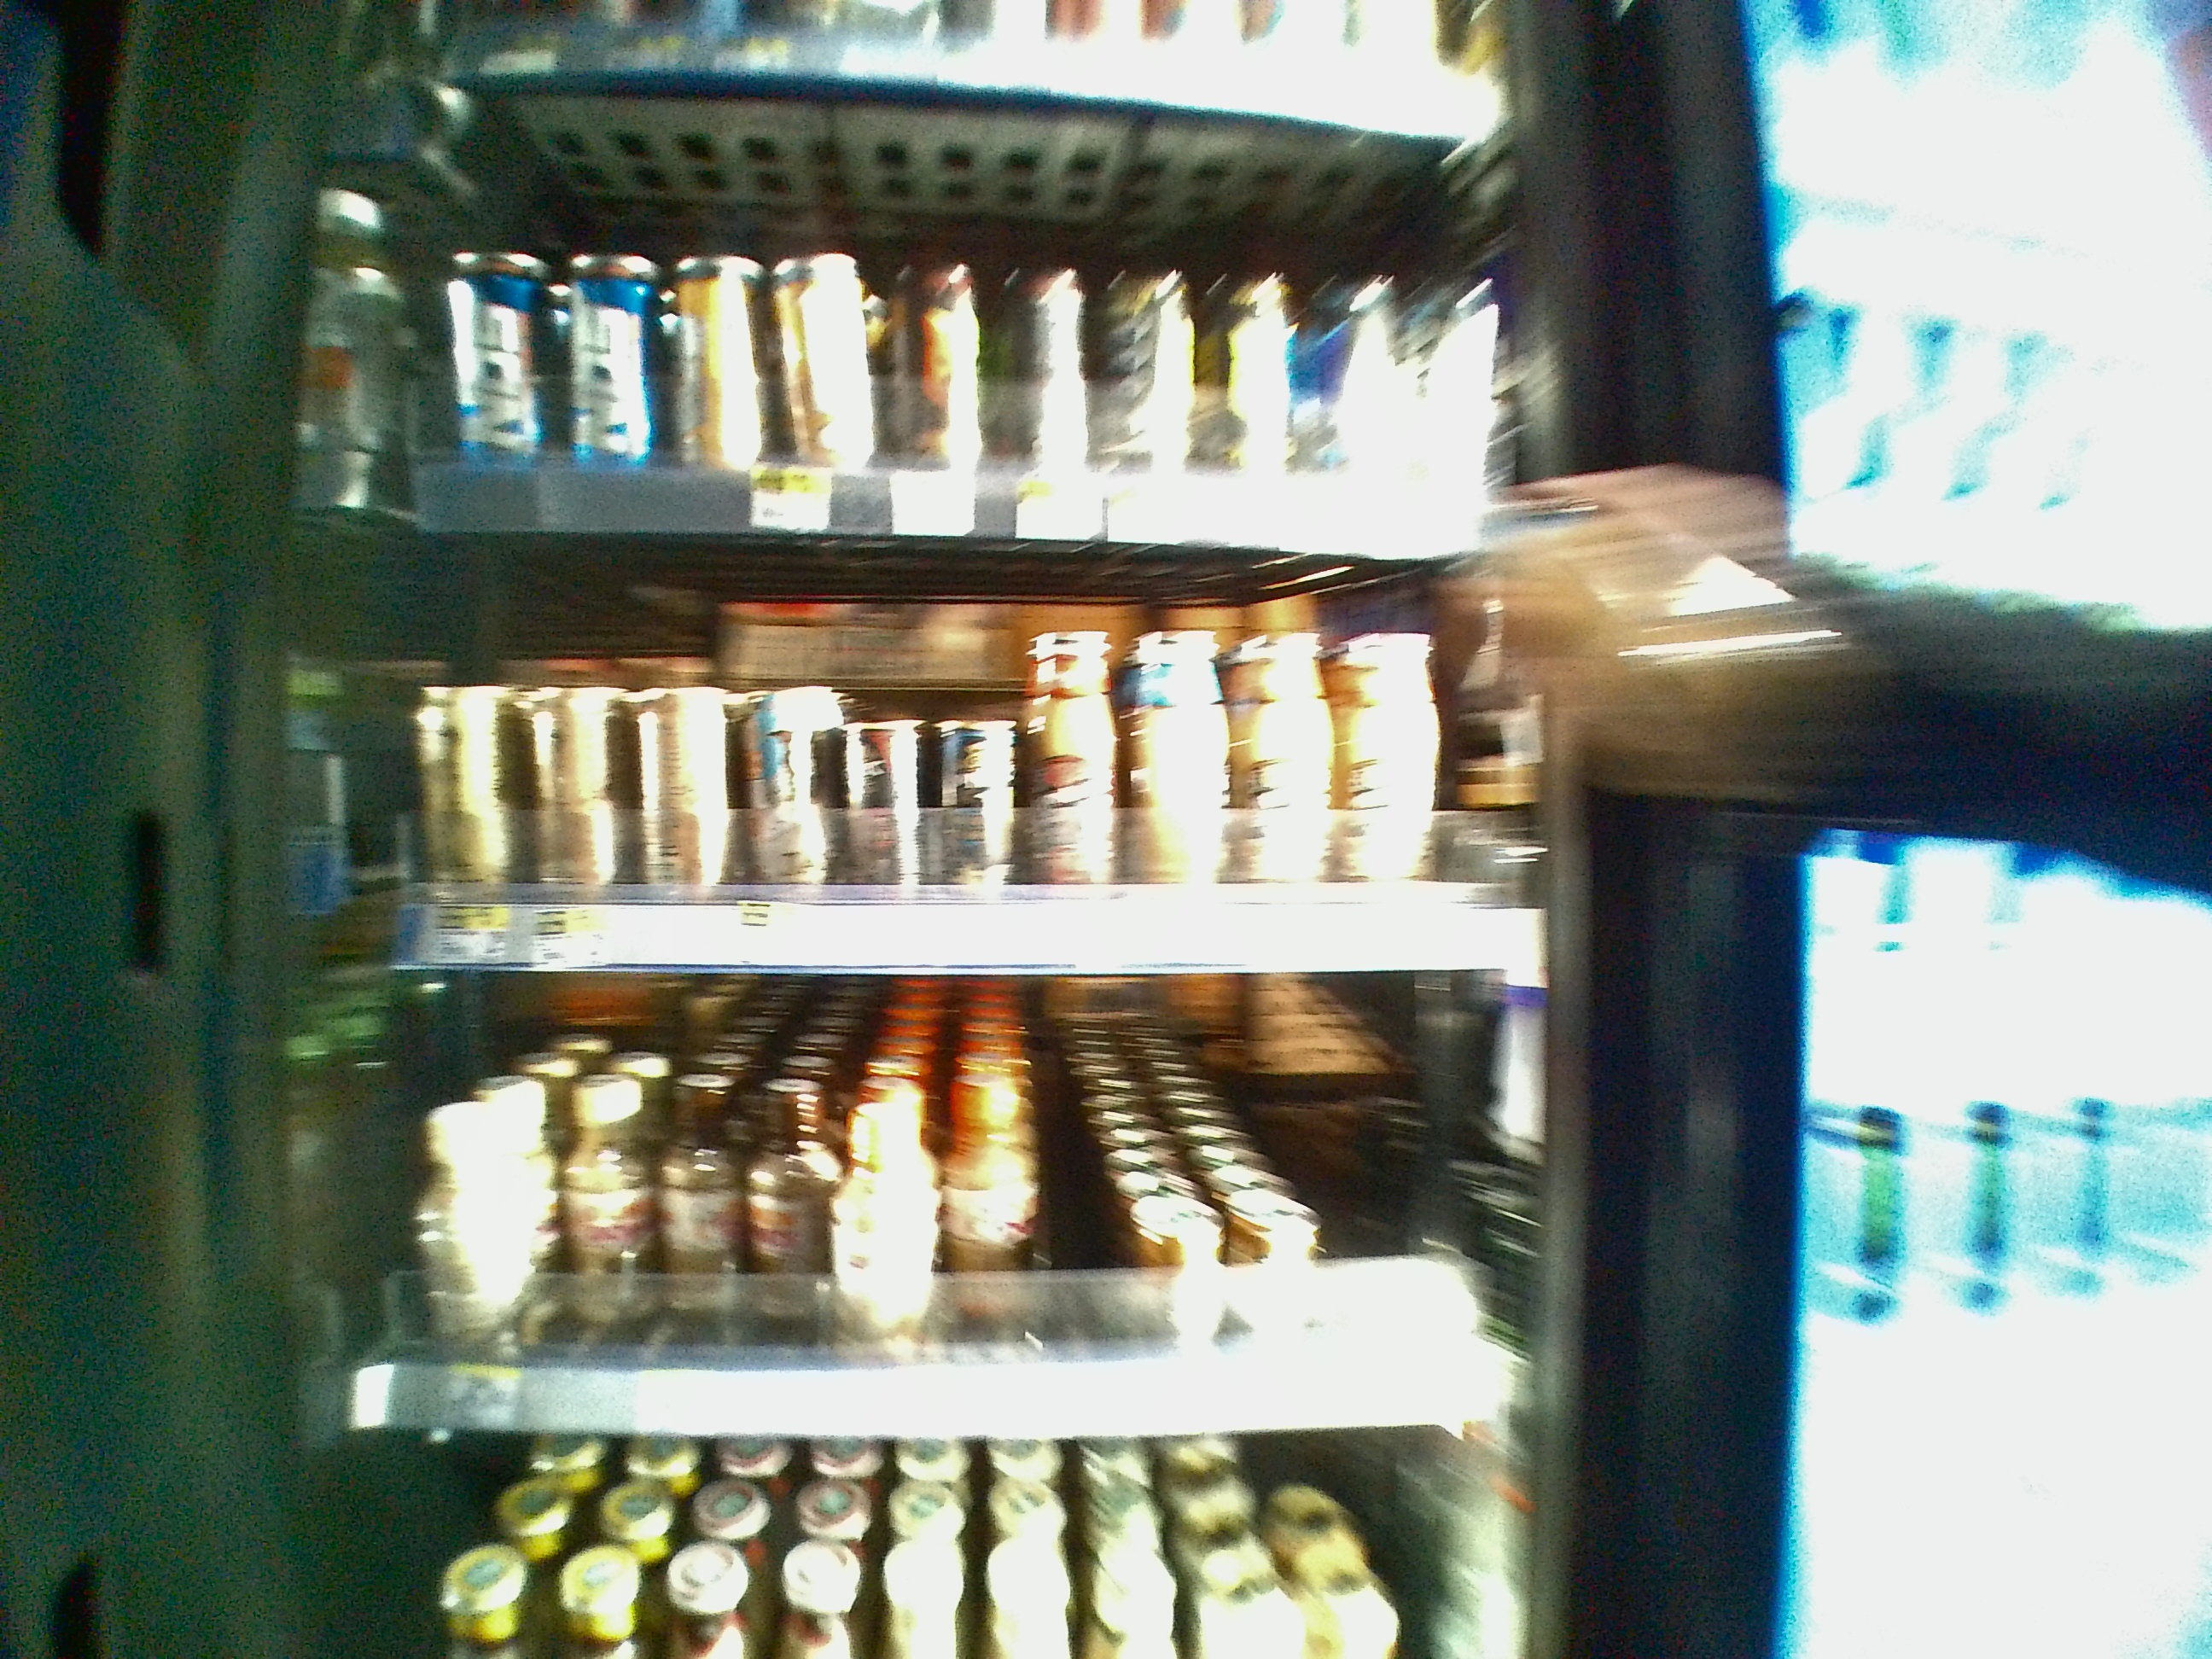shelf: (320, 964, 1564, 1417), (383, 108, 1569, 552)
